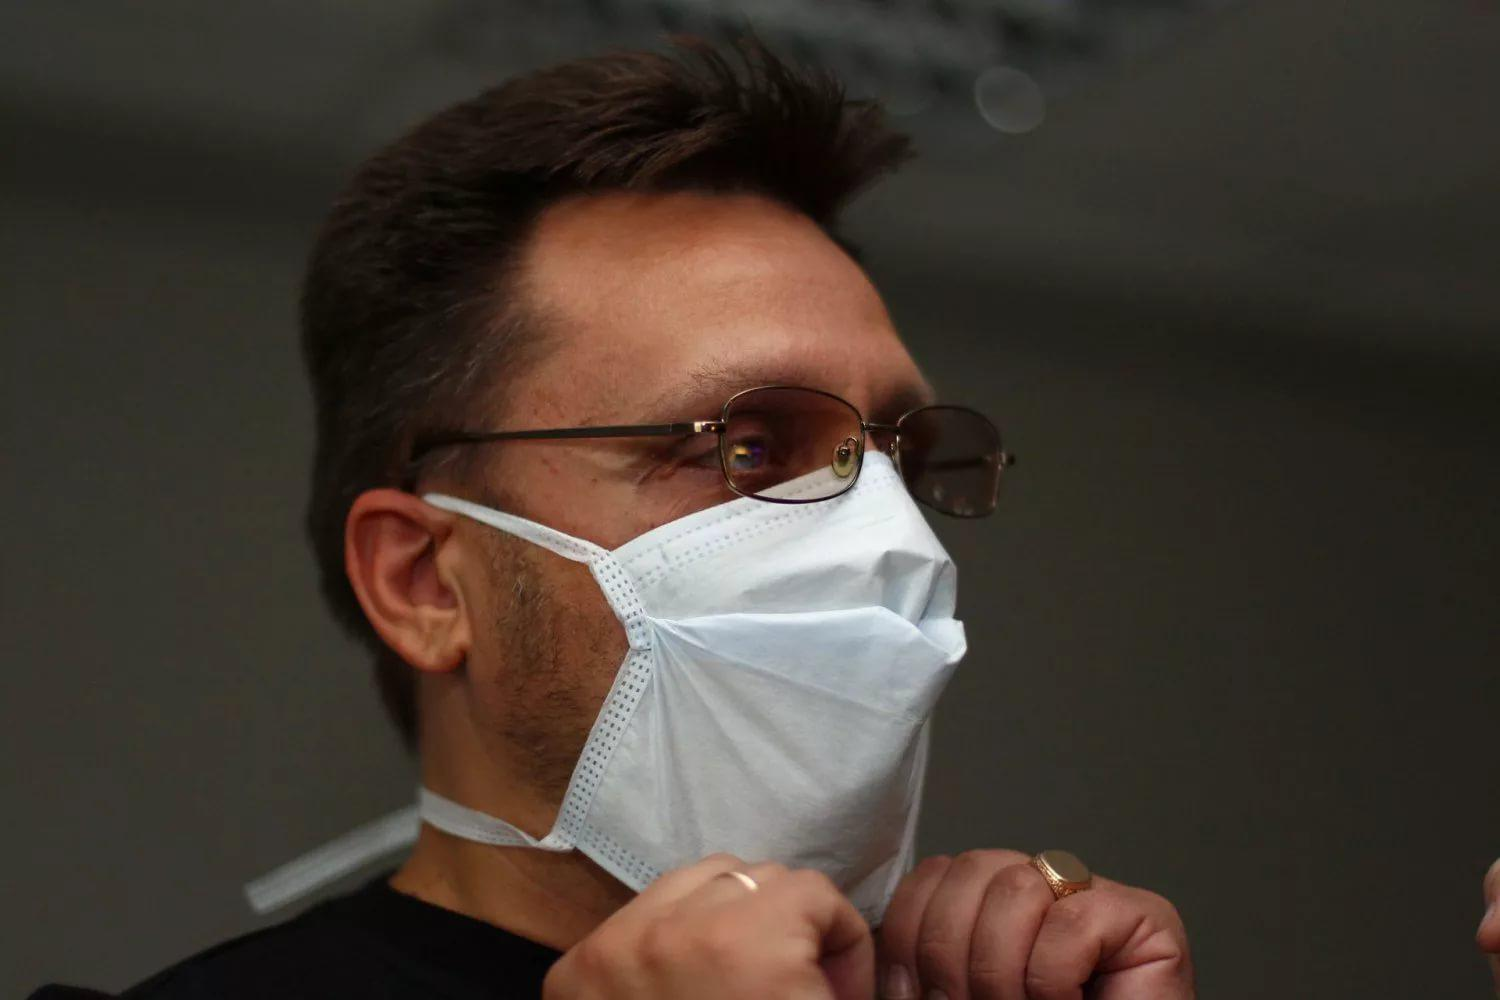mask: (455, 244, 975, 926)
